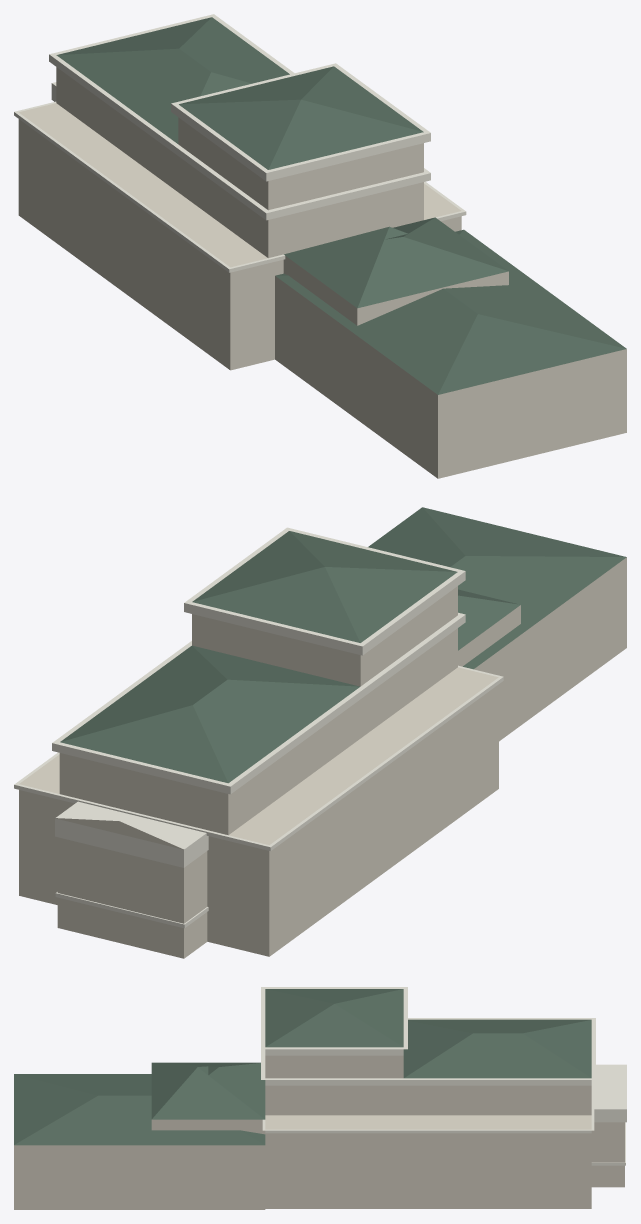
The model's file is opera-b-parametric-lod2.glb.
The picture shows the model from 3 angles, top to bottom: view 1: azimuth 30°, elevation 25°; view 2: azimuth 150°, elevation 25°; view 3: azimuth 270°, elevation 25°; orthographic projection. The views are drawn at different scales.
Parts seen in each view (by area): view 1: opera-b-parametric-lod2; view 2: opera-b-parametric-lod2; view 3: opera-b-parametric-lod2.
Part boxes in pixels (x1,y1,x2,y2): opera-b-parametric-lod2: (14, 14, 626, 478); opera-b-parametric-lod2: (14, 507, 626, 958); opera-b-parametric-lod2: (14, 987, 626, 1209).
Size of the model in its own units: 41.4 by 35 by 120.
Materials: 2 (2 with a texture image).
